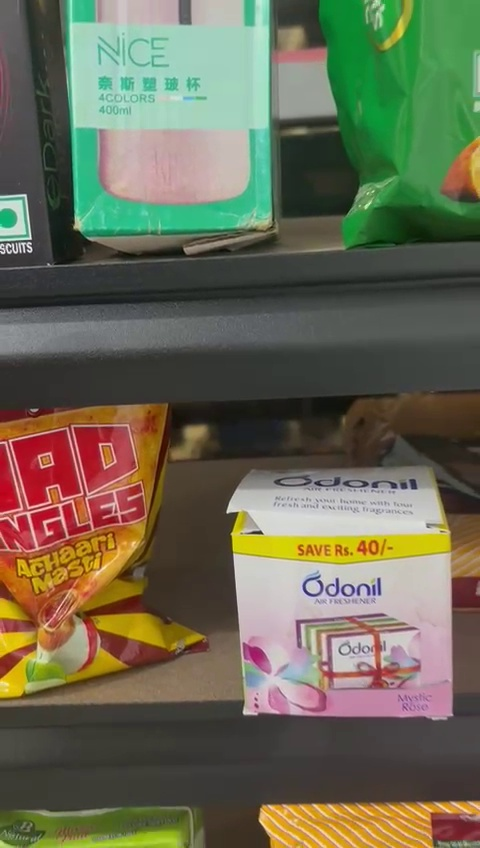Odonil: (238, 464, 451, 723)
